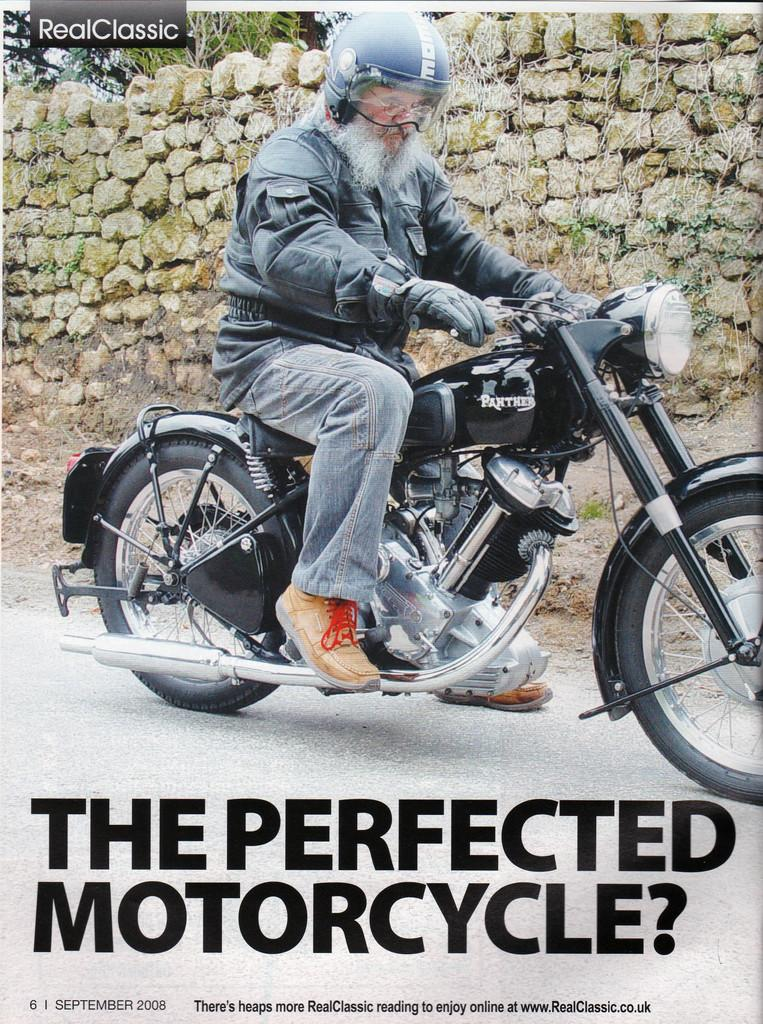helmet: (324, 11, 450, 147)
